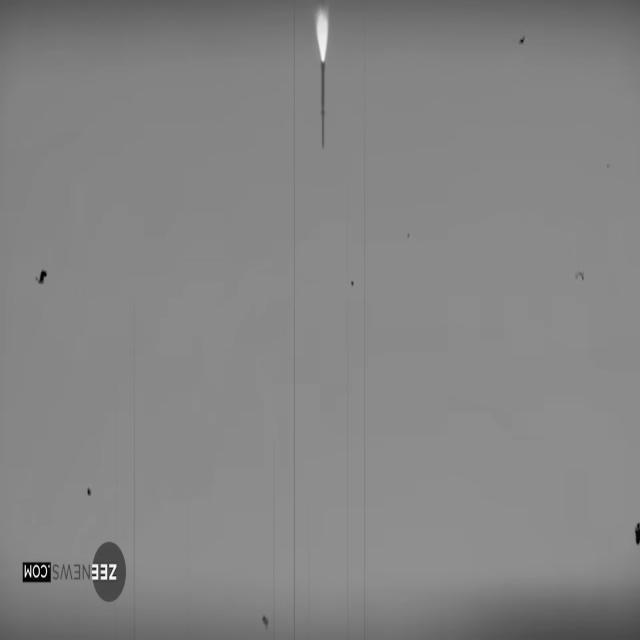missile: (318, 57, 328, 160)
